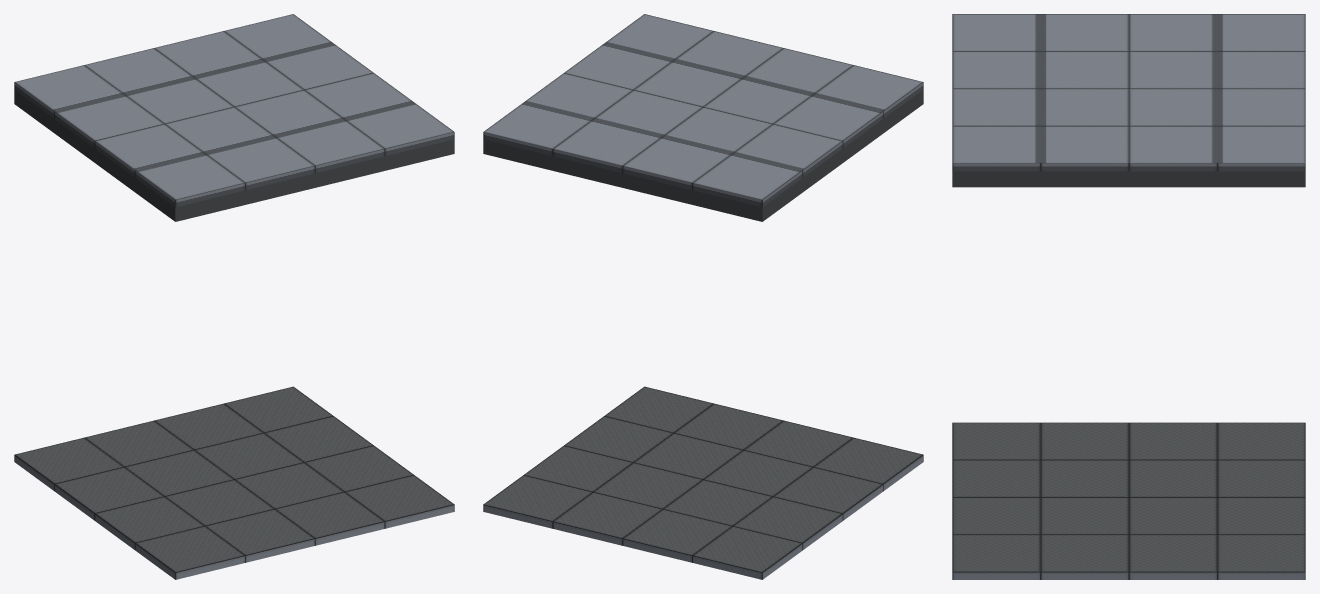
Rendered from Room_SciFi_Floor.glb.
The picture shows the model from 3 angles, left to right: view 1: azimuth 30°, elevation 25°; view 2: azimuth 150°, elevation 25°; view 3: azimuth 270°, elevation 25°; orthographic projection. The views are drawn at different scales.
Visible parts, largest first — view 1: Room_SciFi_Floor; view 2: Room_SciFi_Floor; view 3: Room_SciFi_Floor.
Boxes of the visible parts, x1,y1,x2,y2 form: Room_SciFi_Floor: (14,14,454,579); Room_SciFi_Floor: (483,14,923,579); Room_SciFi_Floor: (952,14,1305,579).
Bounding box in the file's own units: 4 × 5.2 × 4.
5 materials, 3 textured.
